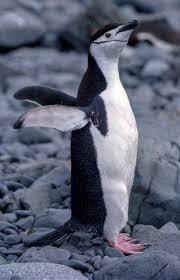chinstrap: (14, 10, 172, 271)
